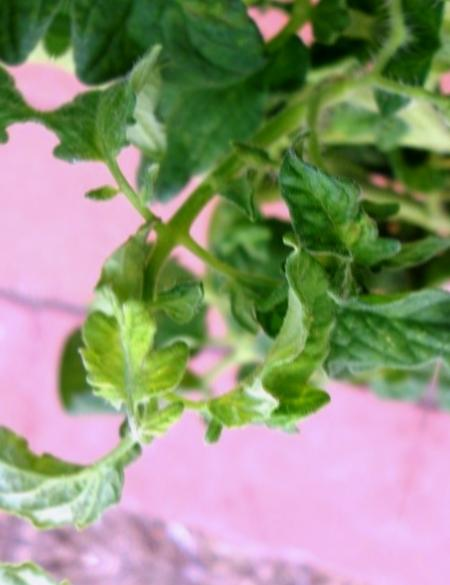Tomato leaf yellow virus: (196, 215, 378, 469), (41, 209, 220, 427), (24, 8, 175, 199), (0, 400, 159, 555), (296, 239, 450, 396)
